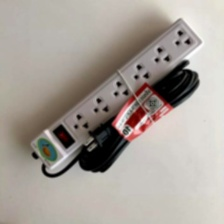three_eye_plug: (24, 15, 205, 170)
